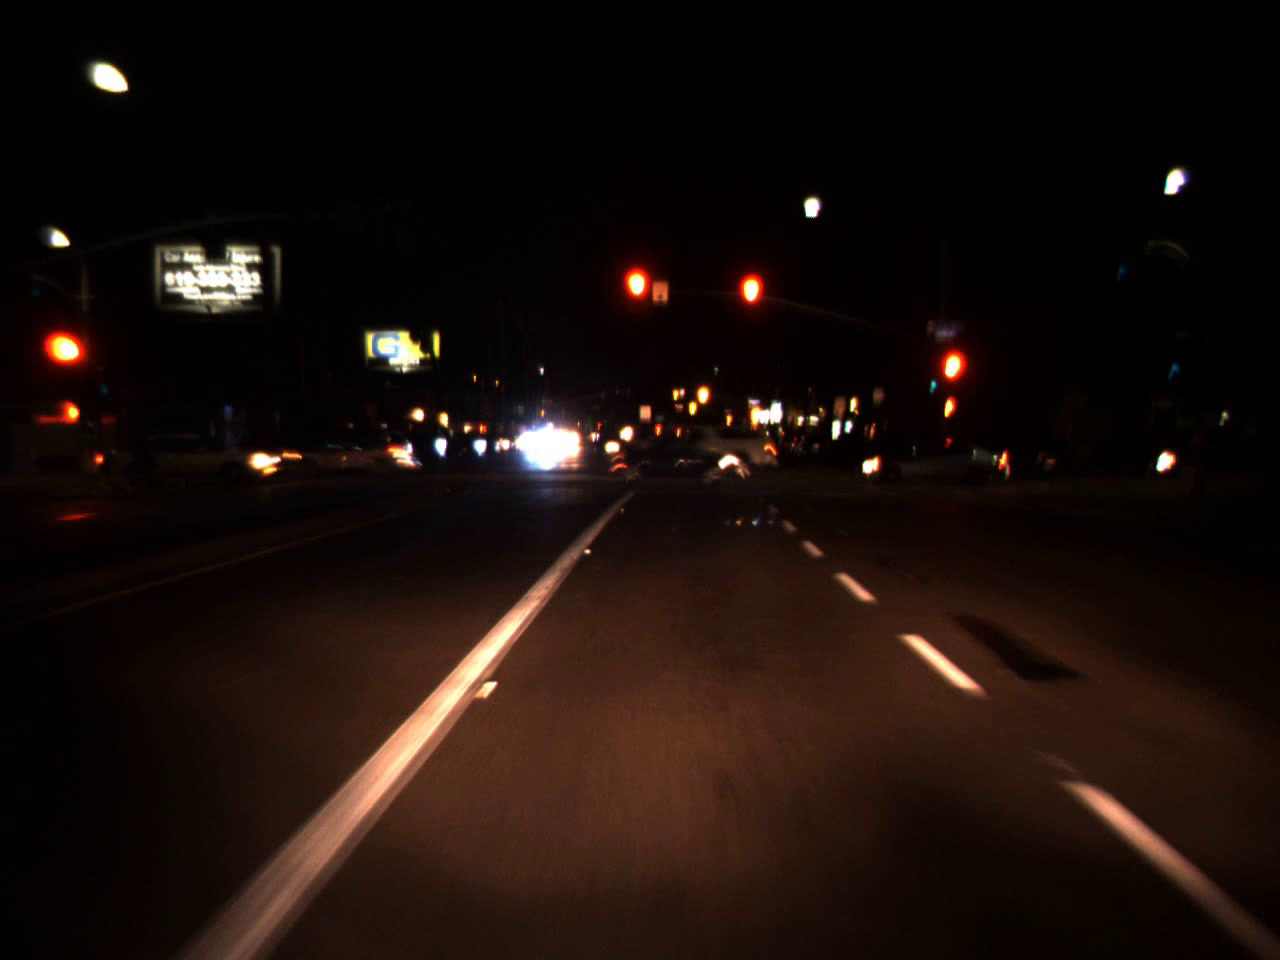stop: (46, 330, 89, 397), (620, 261, 656, 336), (734, 267, 768, 345), (933, 348, 969, 419)
warning: (745, 396, 761, 431), (696, 380, 712, 407), (687, 391, 699, 423), (724, 410, 731, 427)
